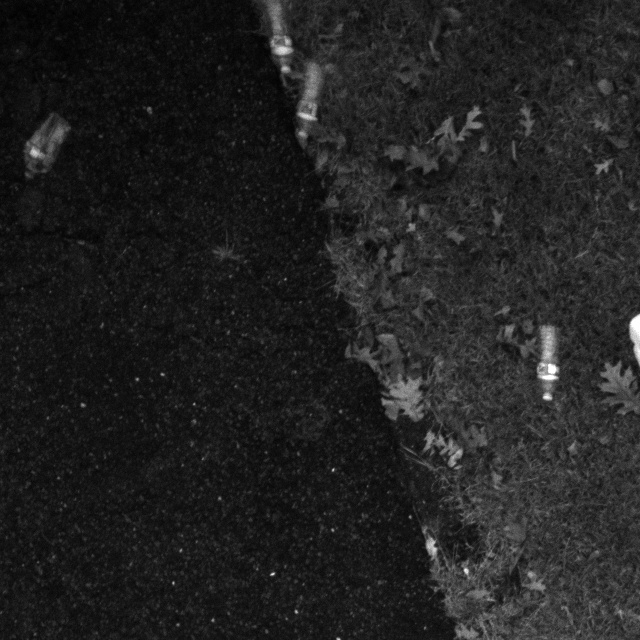bottle: (18, 99, 73, 187), (528, 314, 570, 414), (289, 54, 328, 145), (259, 0, 304, 73)
